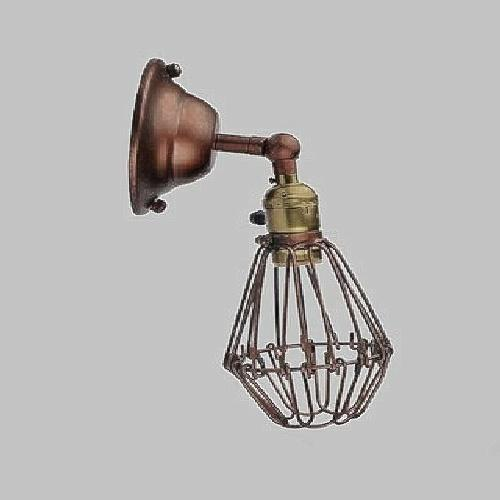lamp: (118, 50, 405, 459)
